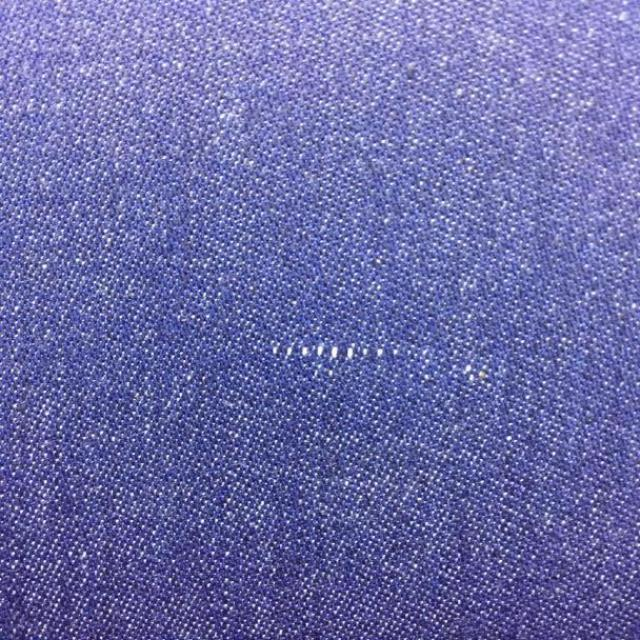Knot: (271, 343, 401, 362)
